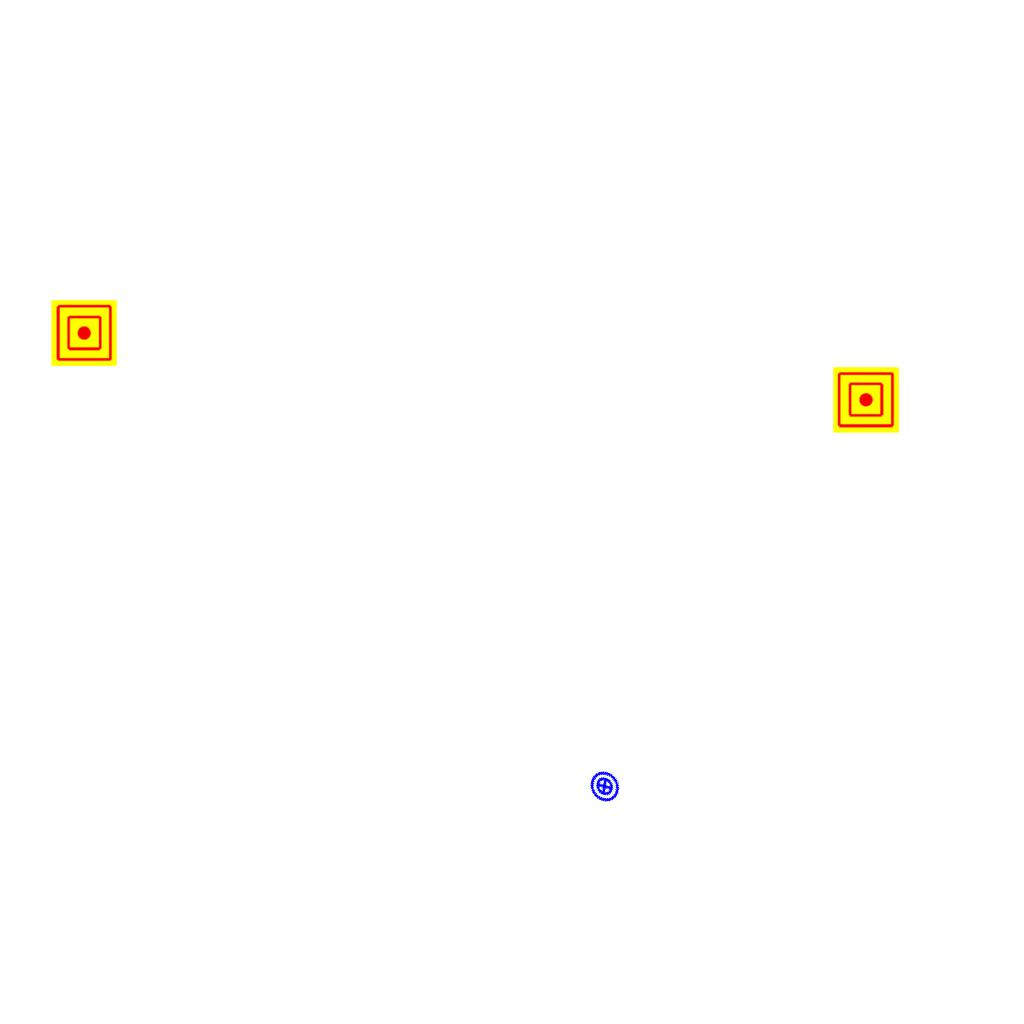NAM-Nichtautomatischer_Melder: (51, 300, 117, 366), (833, 367, 899, 433)
Taster_beleuchtet: (581, 763, 628, 810)
